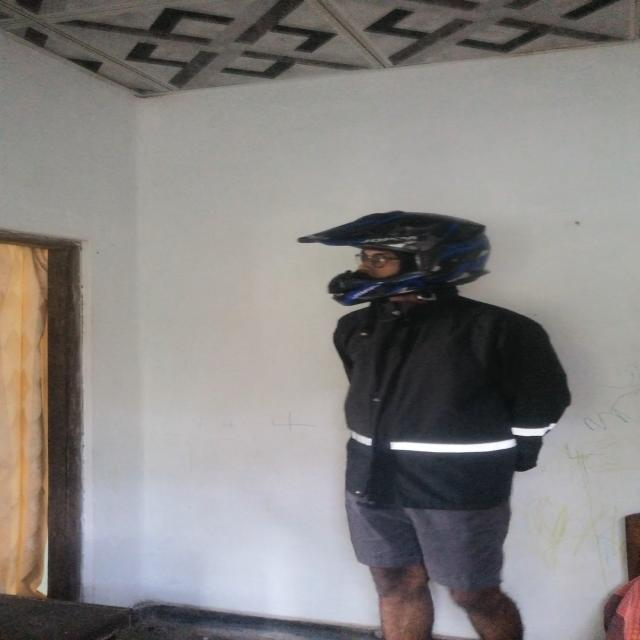Helmet_Wearer: (307, 207, 517, 295)
Jacket_Wearer: (318, 298, 575, 524)
Person: (305, 200, 554, 640)
